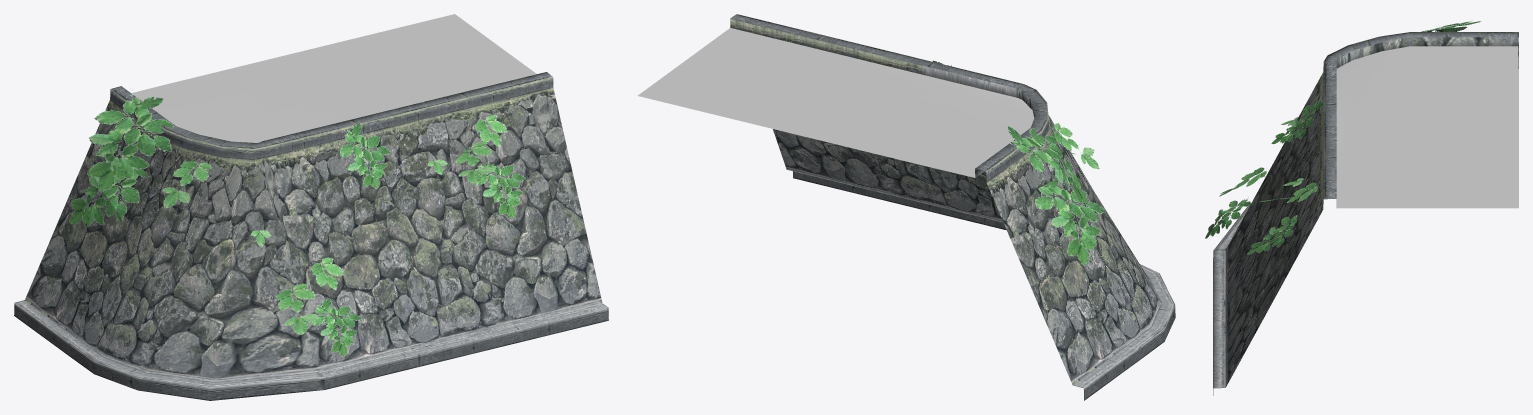
Rendered from WALL Slanted Corner A.fbx.
3 renders of one model, left to right at view 1: azimuth 30°, elevation 25°; view 2: azimuth 150°, elevation 25°; view 3: azimuth 270°, elevation 25°, orthographic.
Parts seen in each view (by area): view 1: WALL Slanted Corner A; view 2: WALL Slanted Corner A; view 3: WALL Slanted Corner A.
Boxes of the visible parts, bbox=[...] form: WALL Slanted Corner A: bbox=[14, 14, 608, 400]; WALL Slanted Corner A: bbox=[637, 14, 1175, 400]; WALL Slanted Corner A: bbox=[1205, 20, 1518, 395].
Size of the model in its own units: 698 by 335 by 434.
